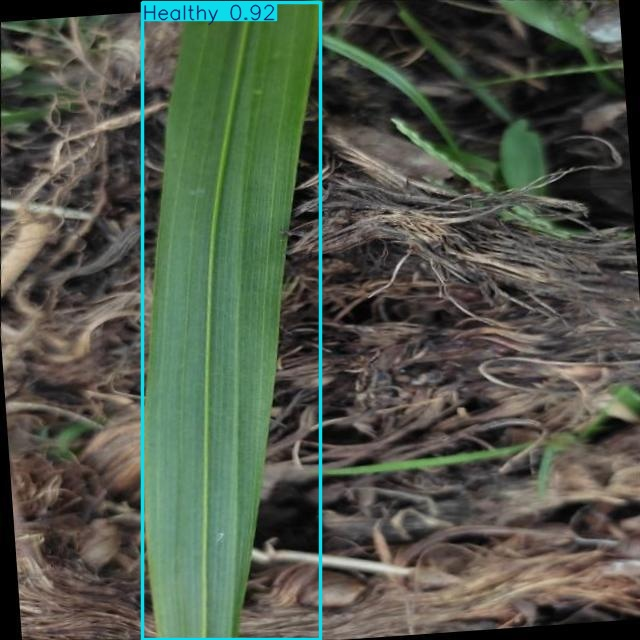Healthy: (142, 2, 321, 639)
